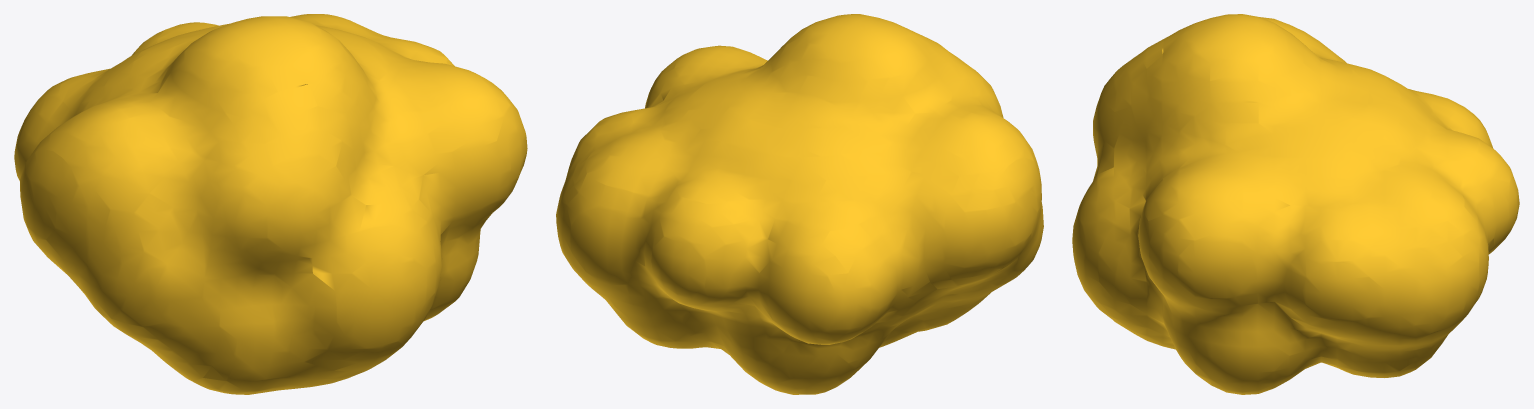
The model's file is RockNugget.fbx.
3 renders of one model, left to right at view 1: azimuth 30°, elevation 25°; view 2: azimuth 150°, elevation 25°; view 3: azimuth 270°, elevation 25°, orthographic. The views are drawn at different scales.
Visible parts, largest first — view 1: RockNugget_Body; view 2: RockNugget_Body; view 3: RockNugget_Body.
Part boxes in pixels (x1,y1,x2,y2): RockNugget_Body: (14,14,527,394); RockNugget_Body: (556,14,1043,394); RockNugget_Body: (1072,14,1519,394).
Bounding box in the file's own units: 185 × 136 × 170.
